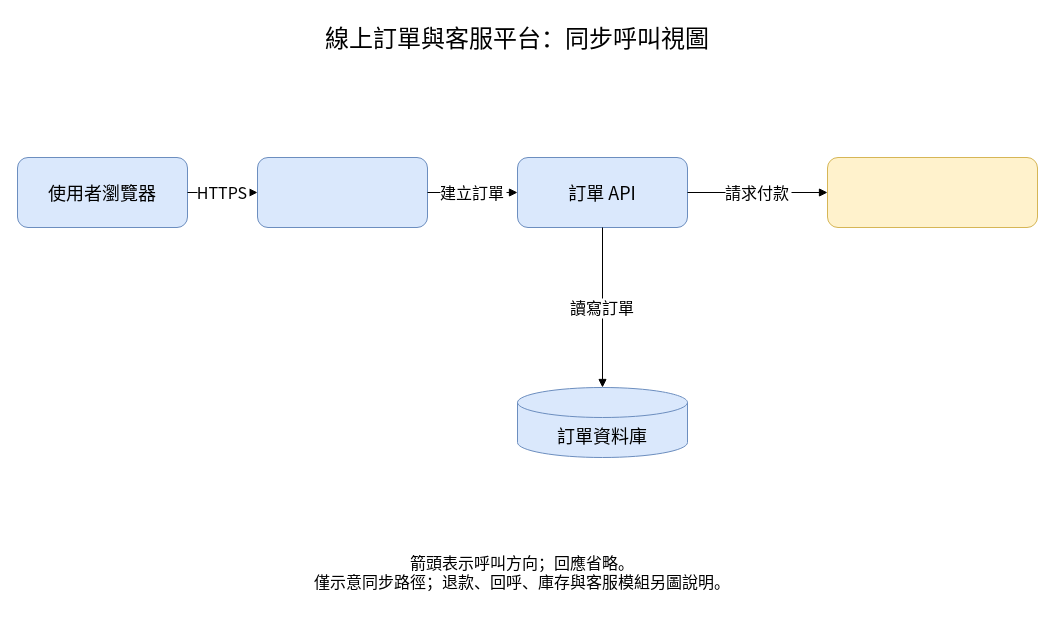
The diagram is 1055 pixels wide and 644 high, and some of its shapes have lost their labels. Here are the shapes that lost their labels. From the top down, the centre of each, then its label:
point 342,192: Web 前端
point 932,192: 外部支付服務
